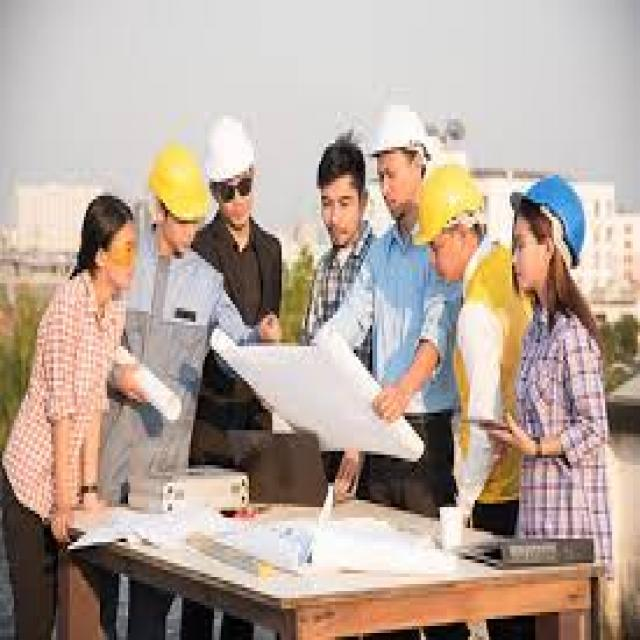Reflective-Jacket: (2, 262, 144, 455), (447, 238, 549, 454)
Safety-Helmet: (505, 161, 600, 266), (407, 147, 491, 255), (140, 133, 218, 234), (196, 101, 266, 196), (368, 94, 435, 168)
